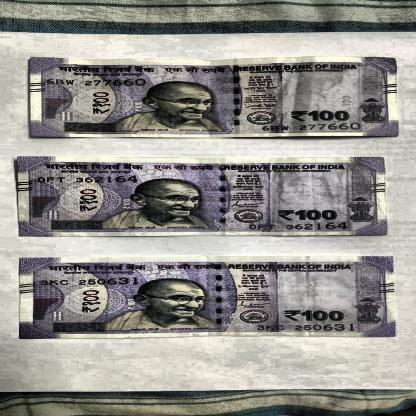Rs100: (279, 308, 352, 324), (272, 208, 344, 222), (286, 110, 356, 123)
